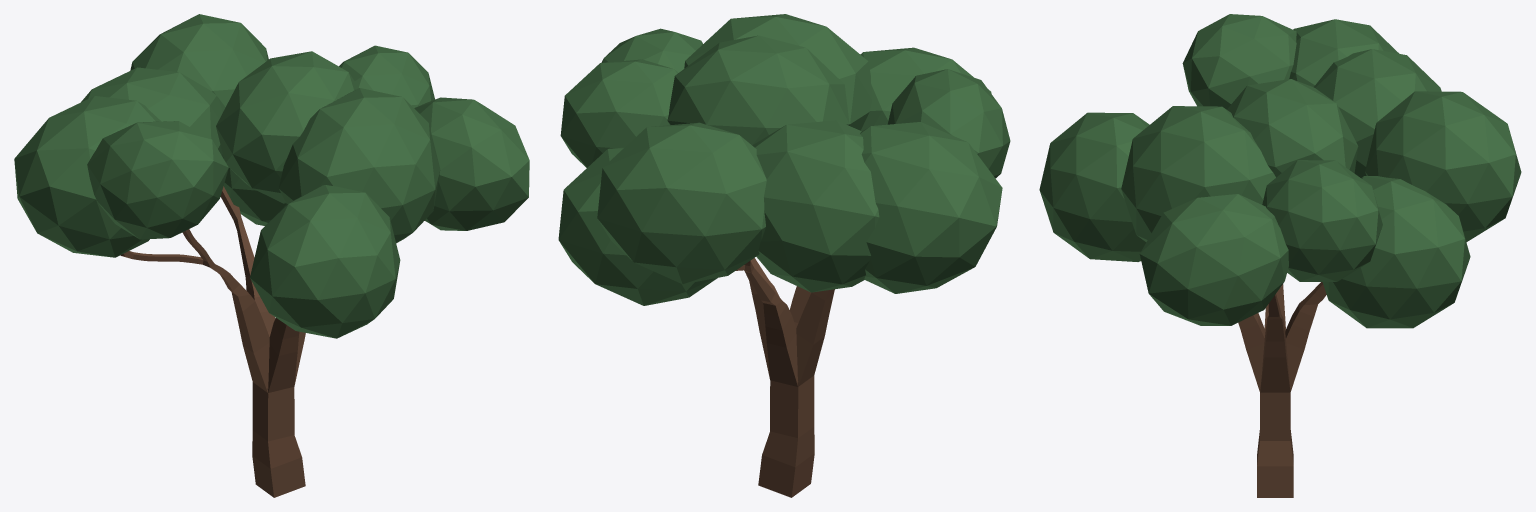
The model's file is tree1.fbx.
3 views of the same model, side by side, from view 1: azimuth 30°, elevation 25°; view 2: azimuth 150°, elevation 25°; view 3: azimuth 270°, elevation 25° (orthographic). The views are drawn at different scales.
Parts seen in each view (by area): view 1: Tree-variant; view 2: Tree-variant; view 3: Tree-variant.
Boxes of the visible parts, x1,y1,x2,y2 form: Tree-variant: (14,14,529,497); Tree-variant: (558,14,1010,497); Tree-variant: (1039,14,1521,497).
Bounding box in the file's own units: 707 × 647 × 680.
